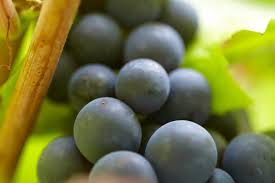Black grapes: (76, 63, 221, 183)
